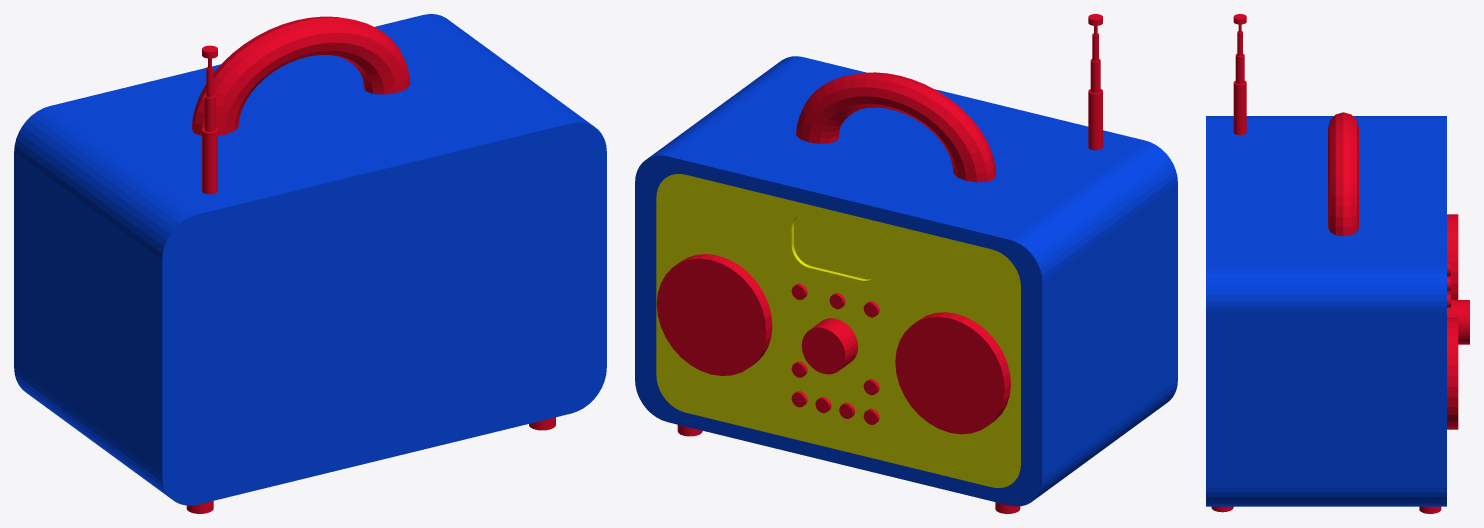
The model's file is Radio.fbx.
3 views of the same model, side by side, from view 1: azimuth 30°, elevation 25°; view 2: azimuth 150°, elevation 25°; view 3: azimuth 270°, elevation 25° (orthographic). The views are drawn at different scales.
Parts seen in each view (by area): view 1: Radio; view 2: Radio; view 3: Radio.
Part boxes in pixels (left/top/right/bottom): Radio: left=14, top=14, right=606, bottom=513; Radio: left=635, top=14, right=1177, bottom=513; Radio: left=1206, top=14, right=1469, bottom=513.
Size of the model in its own units: 97.31 by 93.31 by 61.43.
